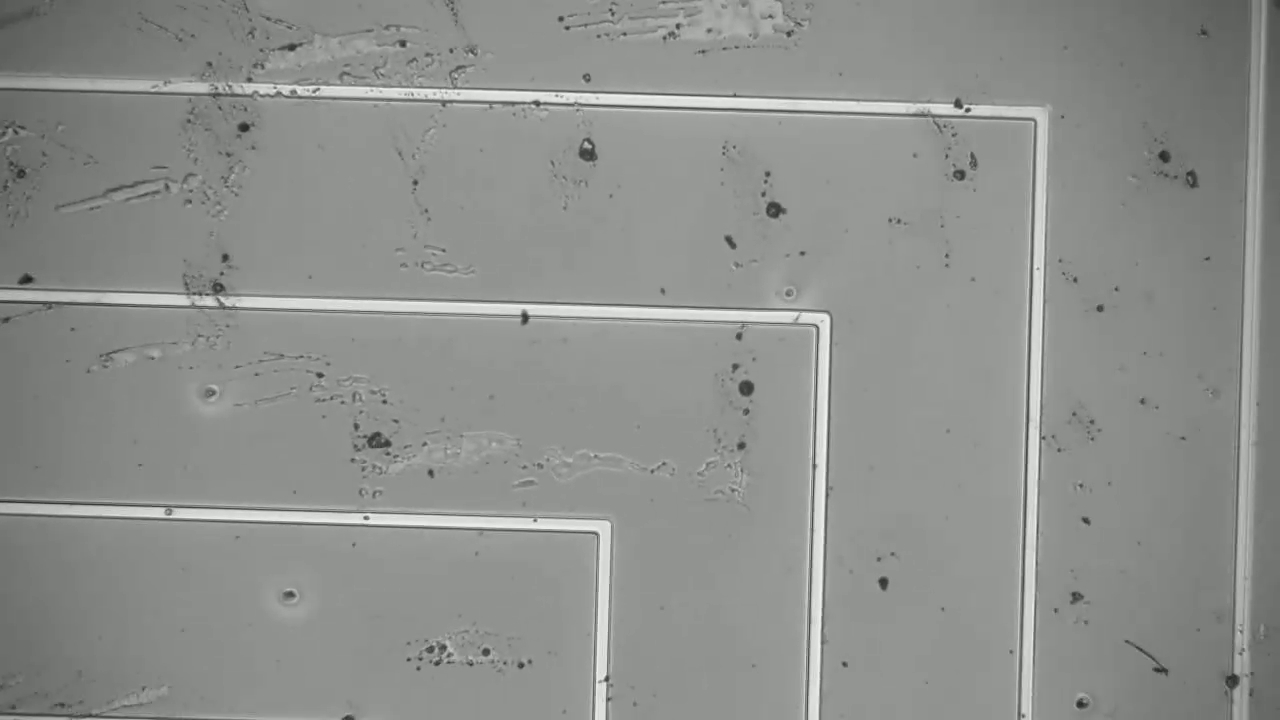stains_enbedded: (1219, 664, 1261, 702), (508, 291, 543, 329), (947, 90, 974, 120), (164, 503, 178, 521)
